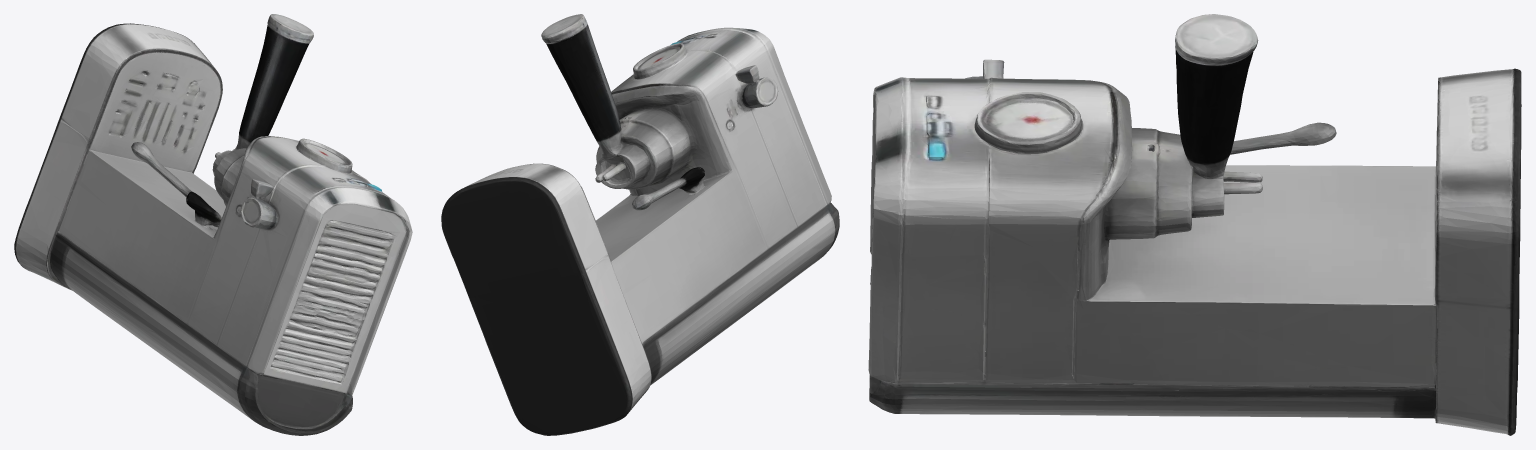
Rendered from y_mug1.glb.
3 views of the same model, side by side, from view 1: azimuth 30°, elevation 25°; view 2: azimuth 150°, elevation 25°; view 3: azimuth 270°, elevation 25° (orthographic). The views are drawn at different scales.
Parts seen in each view (by area): view 1: geometry_0; view 2: geometry_0; view 3: geometry_0.
Boxes of the visible parts, x1,y1,x2,y2 form: geometry_0: [14, 14, 412, 435]; geometry_0: [441, 14, 839, 435]; geometry_0: [868, 14, 1521, 435].
Bounding box in the file's own units: 0.2052 × 0.3342 × 0.4283.
Materials: 1 (1 with a texture image).
